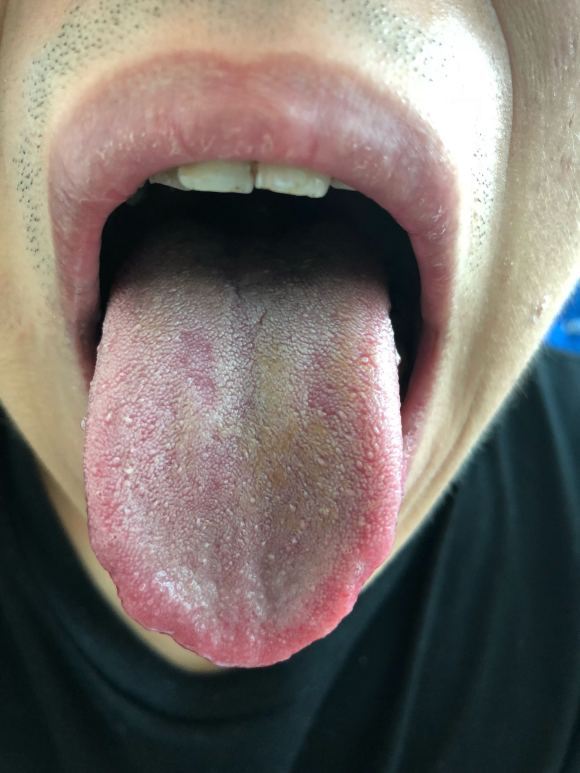hongshe: (84, 239, 403, 668)
huangtaishe: (84, 239, 403, 668)
